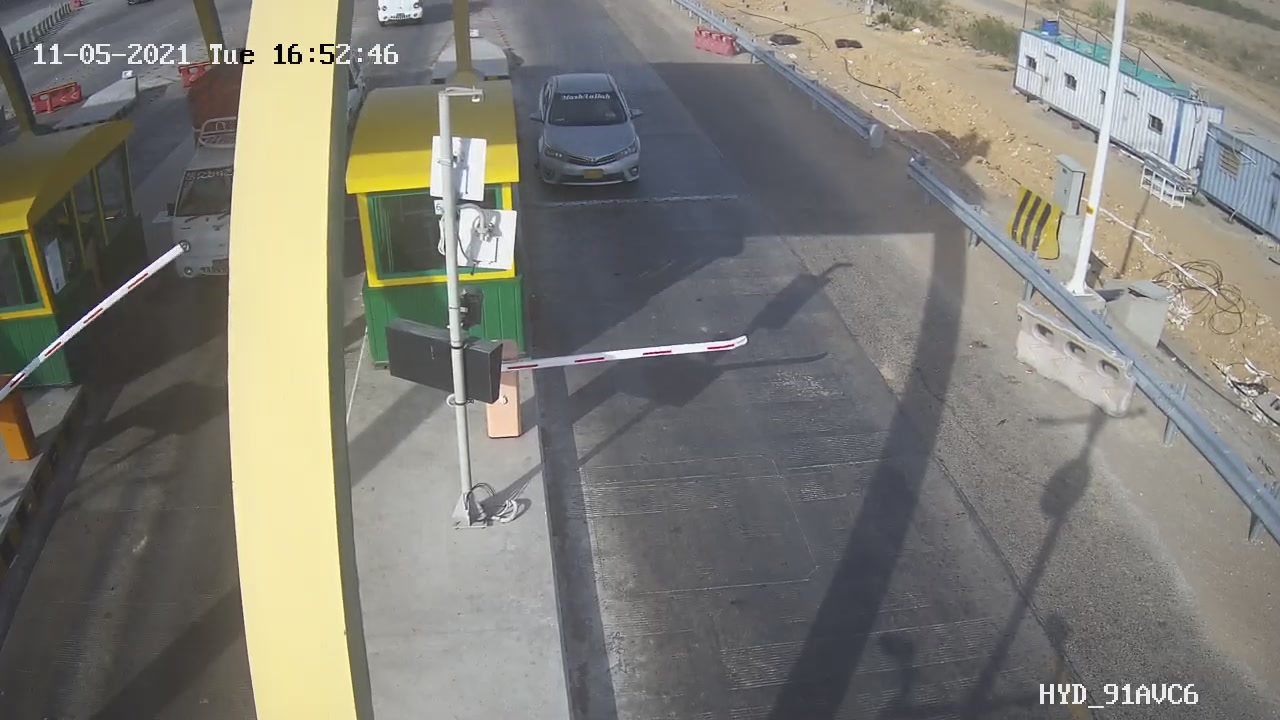F1: (517, 62, 669, 207)
